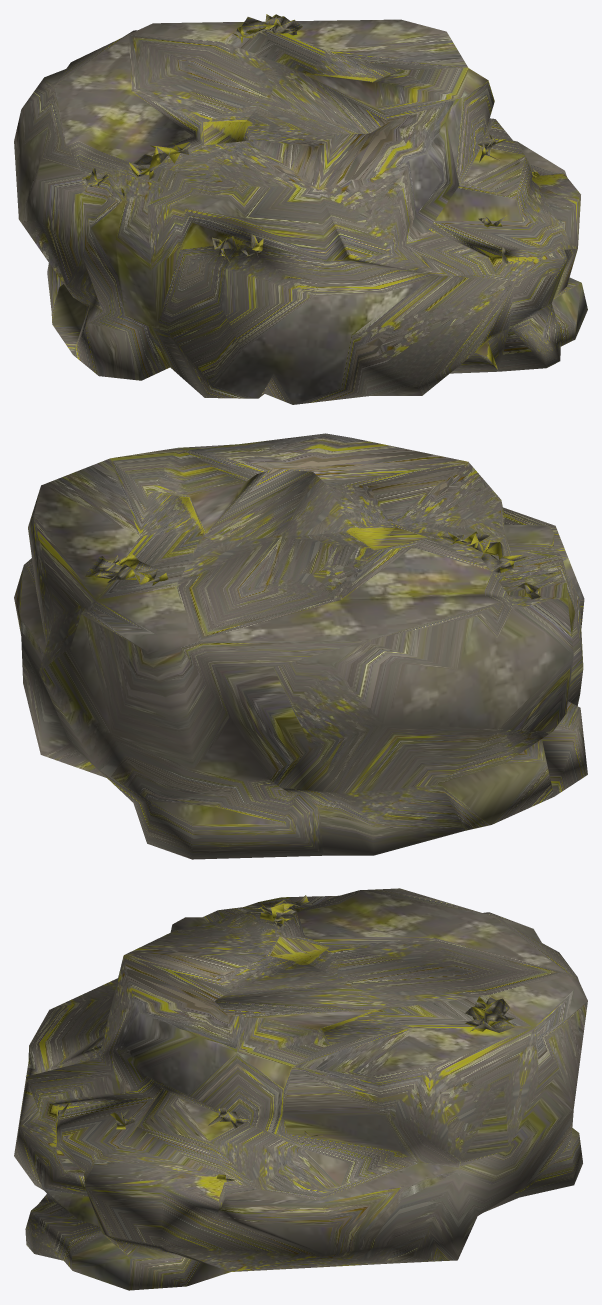
Rendered from rock_table.glb.
The picture shows the model from 3 angles, top to bottom: view 1: azimuth 30°, elevation 25°; view 2: azimuth 150°, elevation 25°; view 3: azimuth 270°, elevation 25°; orthographic projection. The views are drawn at different scales.
Size of the model in its own units: 0.9565 by 0.3799 by 0.9277.
1 material, 1 textured.
